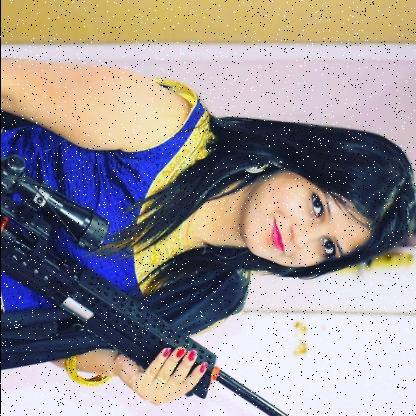rifle: (0, 151, 288, 416)
